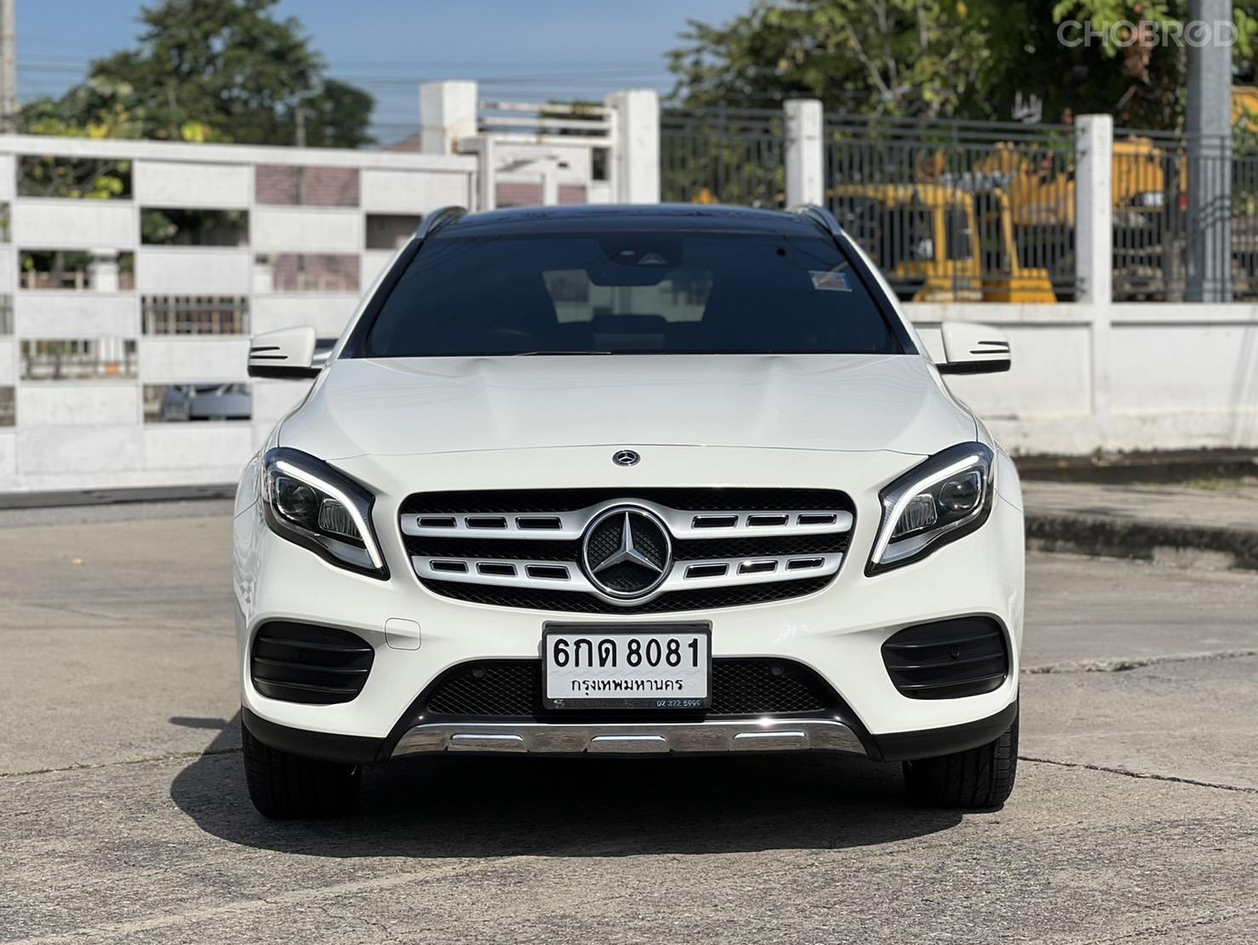license-plate: (535, 617, 714, 710)
